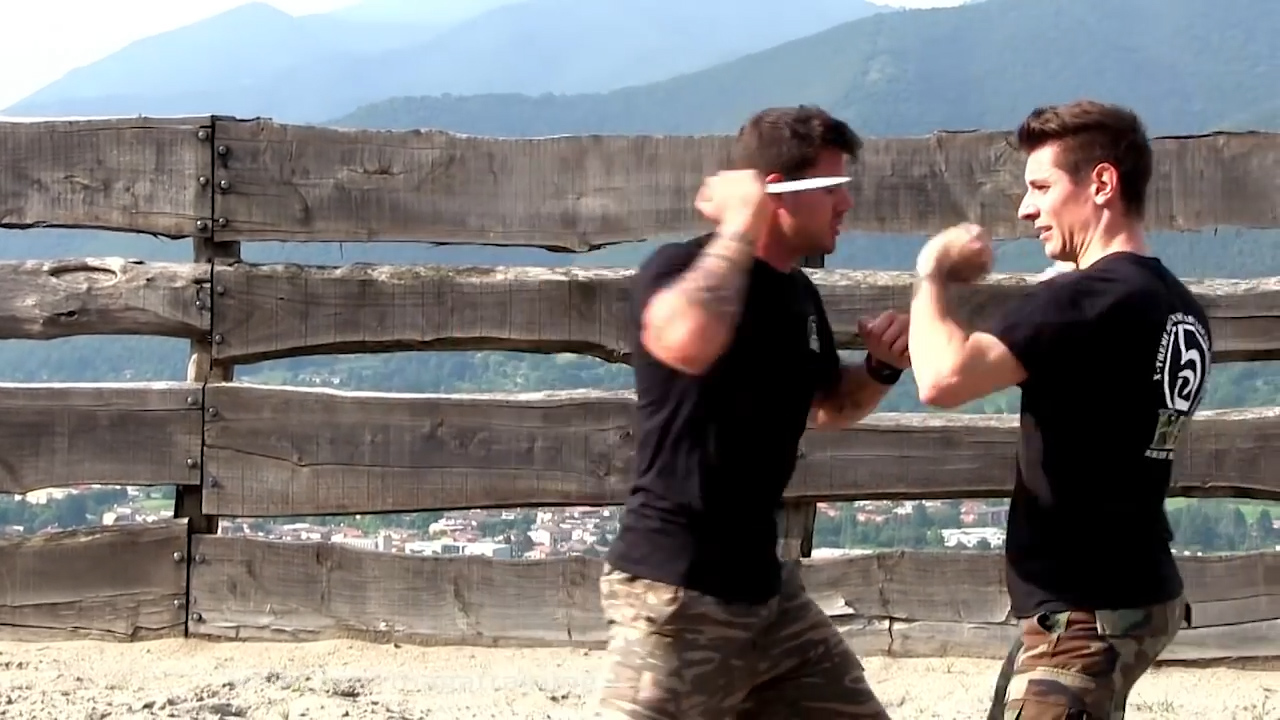knife: (691, 160, 860, 218)
